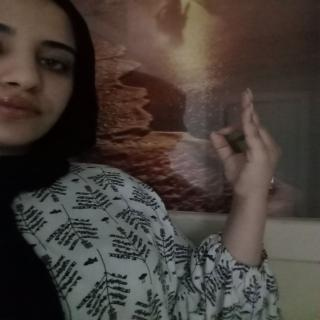Space: (205, 80, 291, 208)
